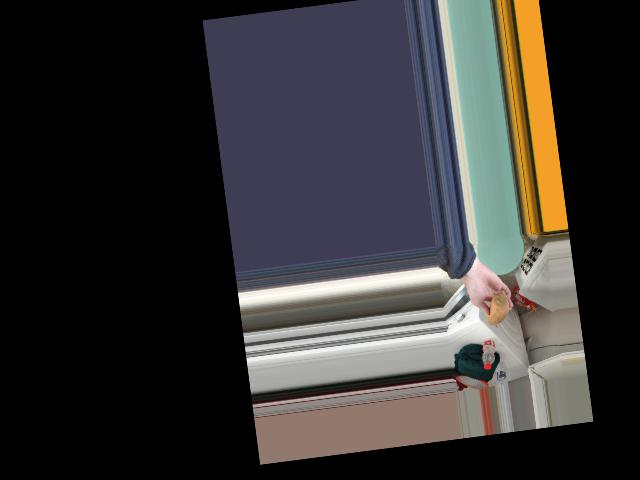sweet_potato: (485, 294, 511, 325)
